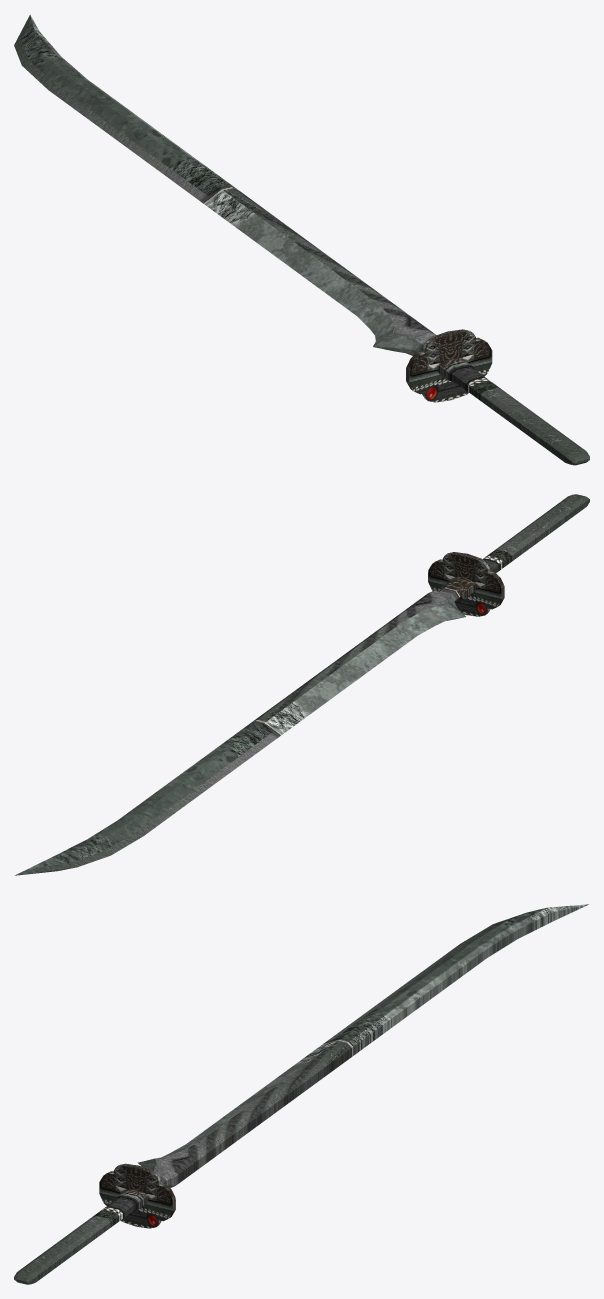
The model's file is weapon__test_ichimonji.glb.
3 renders of one model, top to bottom at view 1: azimuth 30°, elevation 25°; view 2: azimuth 150°, elevation 25°; view 3: azimuth 330°, elevation 25°, orthographic. The views are drawn at different scales.
Bounding box in the file's own units: 0.1335 × 0.0973 × 1.58.
Materials: 1 (1 with a texture image).
